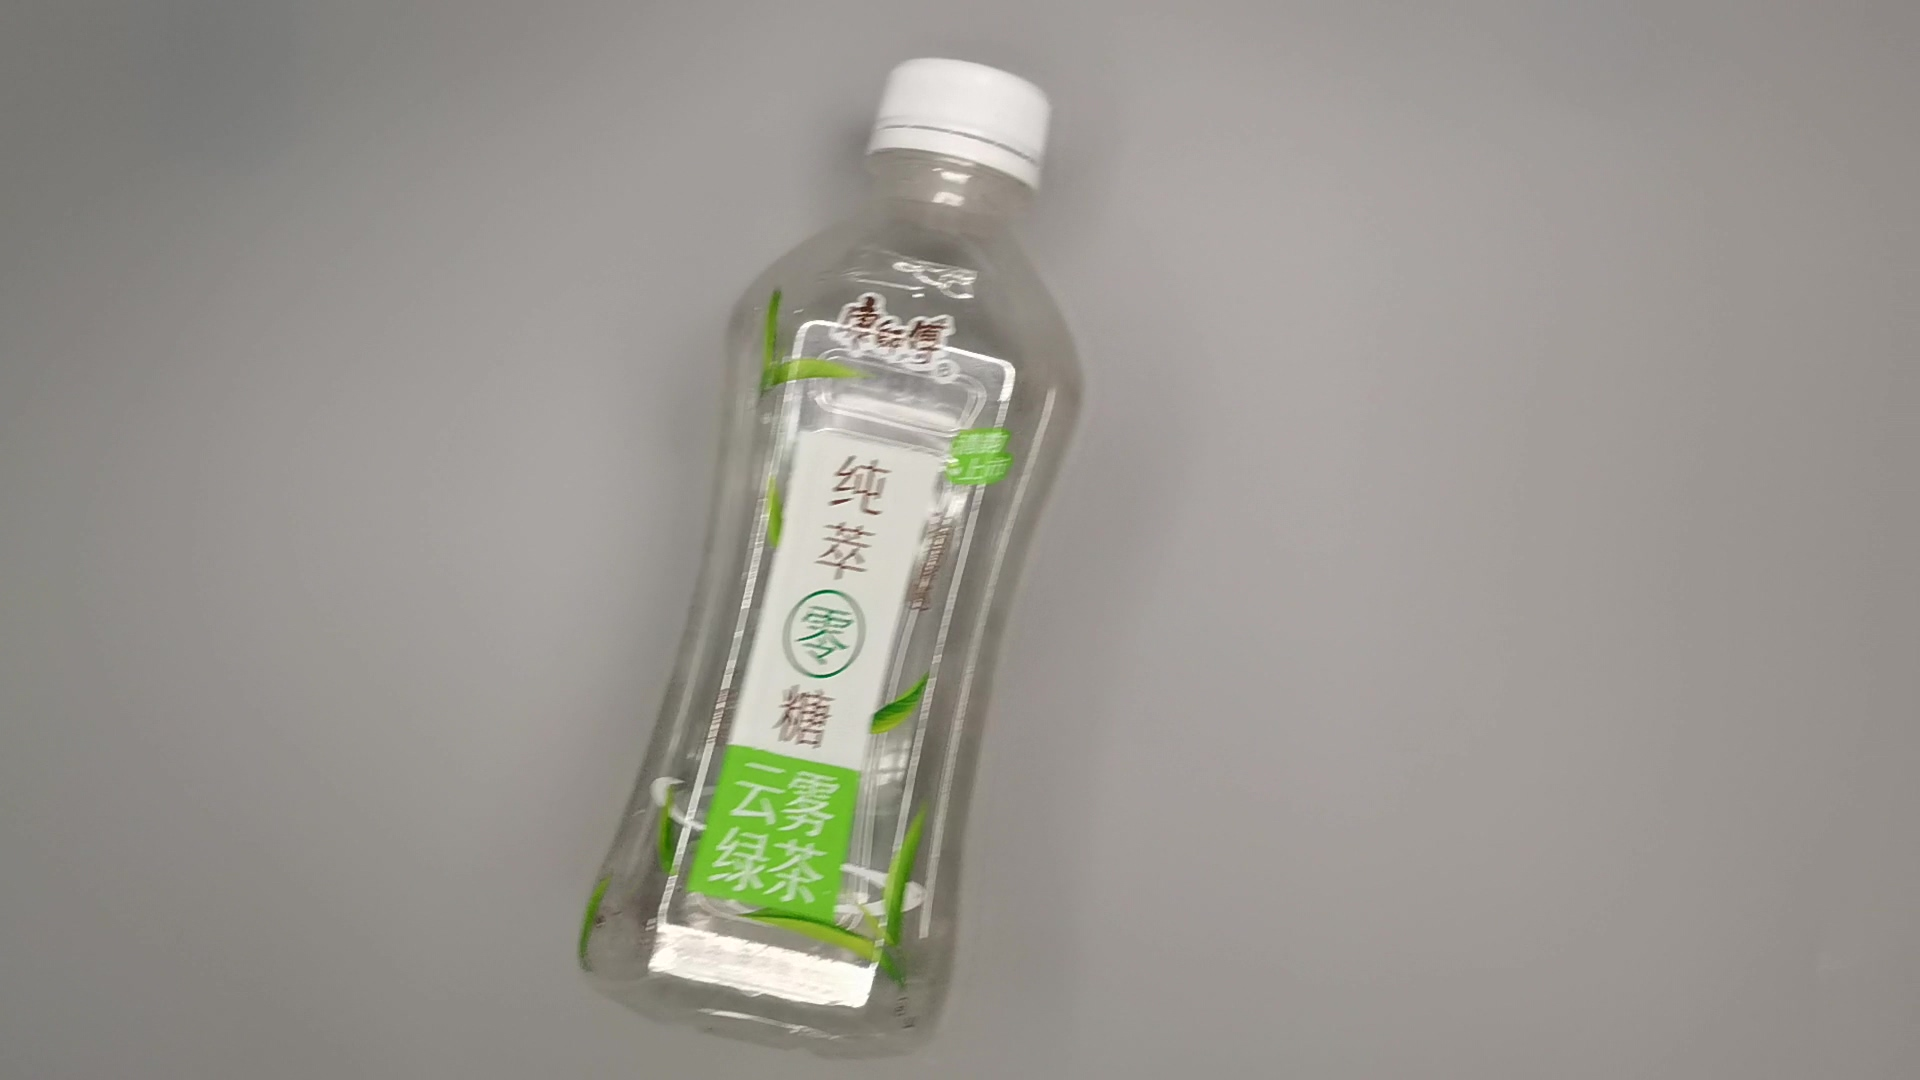bottle: (551, 47, 1102, 1080)
